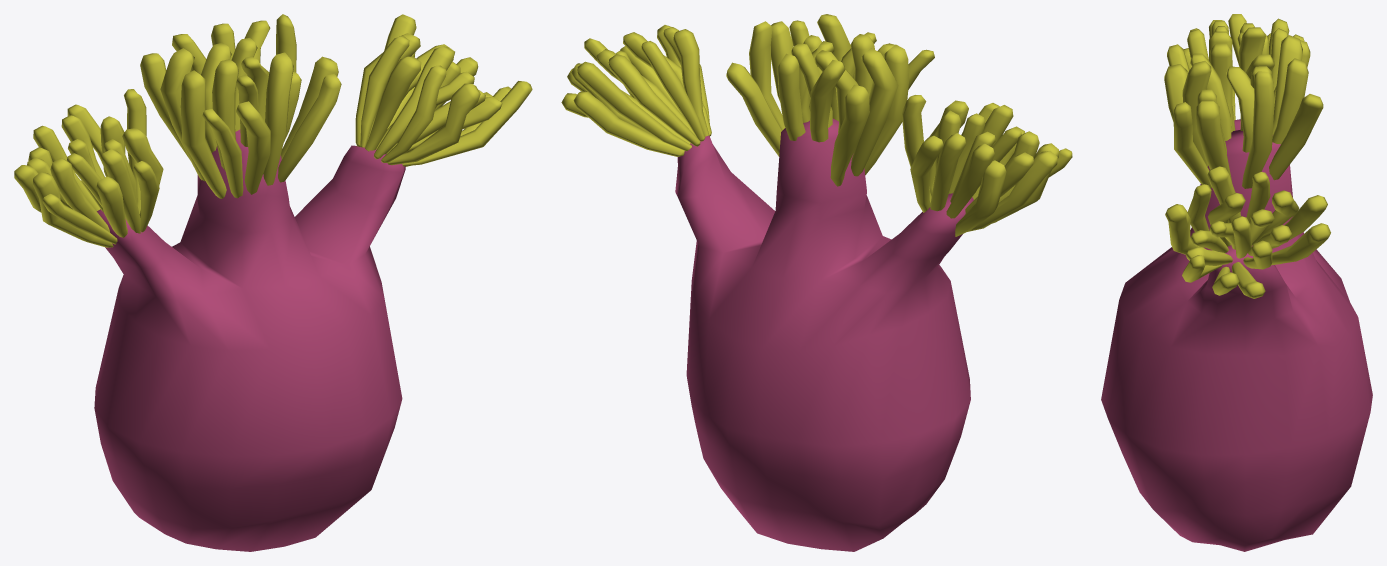
Rendered from SM_PlantCorals_Chunky.fbx.
The picture shows the model from 3 angles, left to right: view 1: azimuth 30°, elevation 25°; view 2: azimuth 150°, elevation 25°; view 3: azimuth 270°, elevation 25°; orthographic projection. The views are drawn at different scales.
Parts seen in each view (by area): view 1: SM_PlantCorals_Chunky; view 2: SM_PlantCorals_Chunky; view 3: SM_PlantCorals_Chunky.
Part boxes in pixels (left/top/right/bottom): SM_PlantCorals_Chunky: left=14, top=14, right=532, bottom=551; SM_PlantCorals_Chunky: left=561, top=14, right=1072, bottom=551; SM_PlantCorals_Chunky: left=1101, top=14, right=1372, bottom=551.
Size of the model in its own units: 141 by 134 by 69.45.
